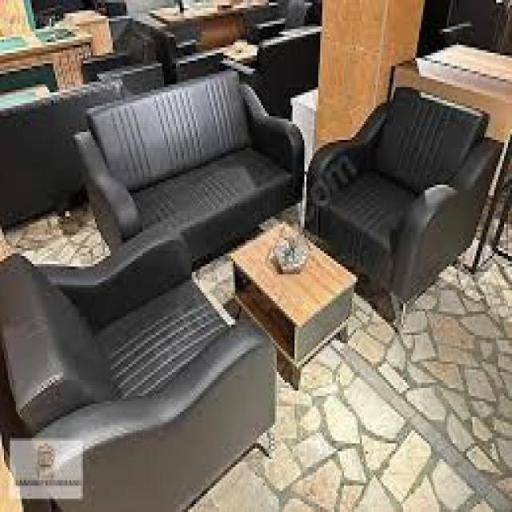sofa: (0, 231, 300, 512), (306, 67, 508, 333), (56, 54, 302, 226)
